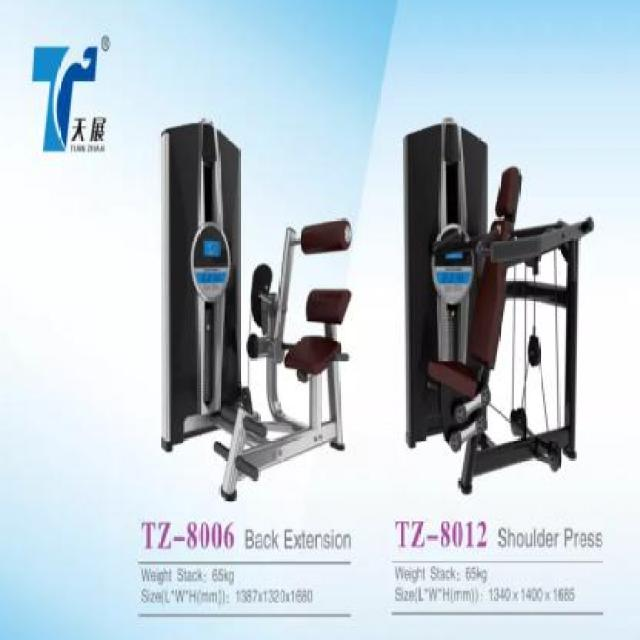shoulder press machine: (400, 115, 595, 497)
